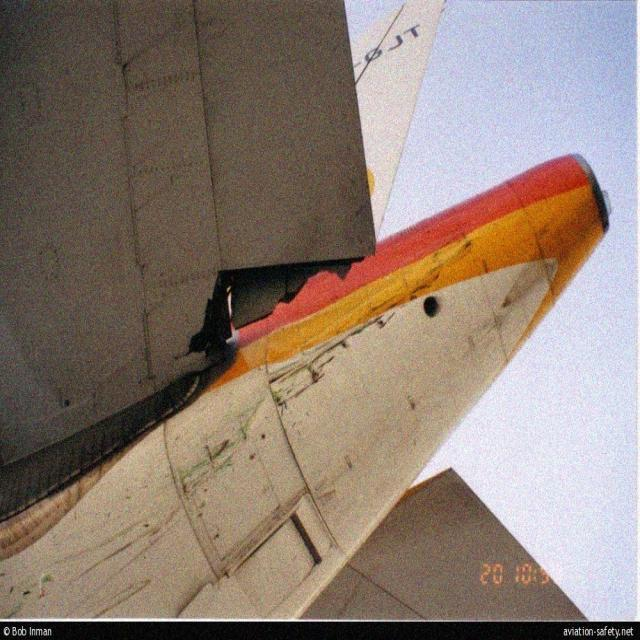crack: (173, 256, 370, 363)
